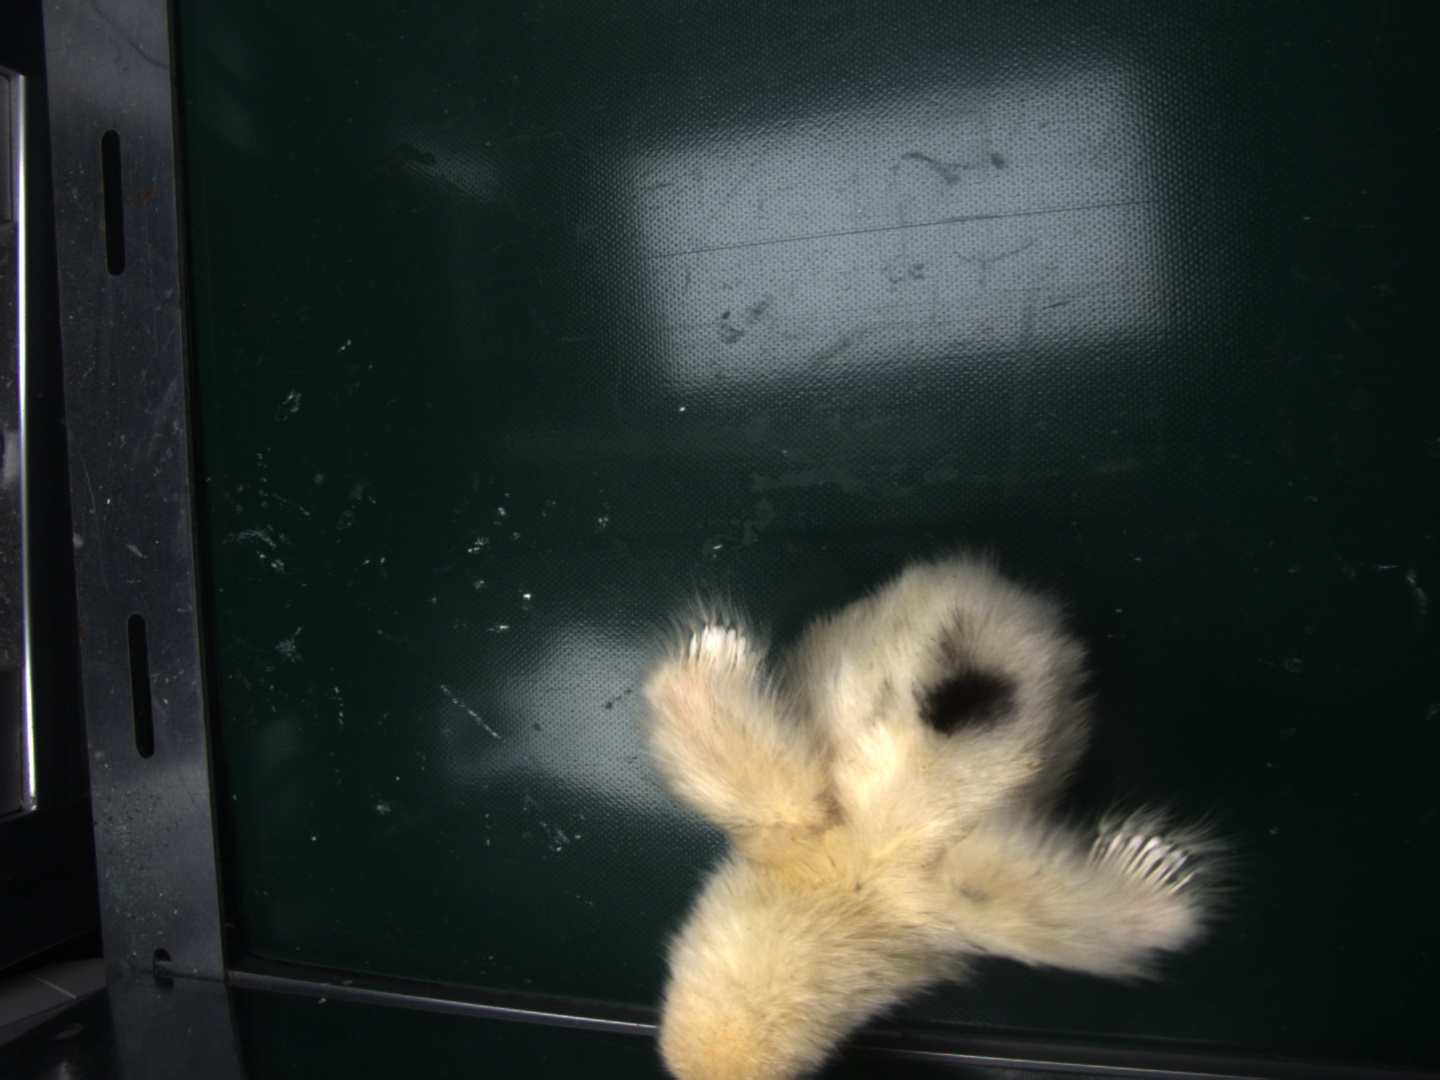male: (1081, 827, 1197, 904)
